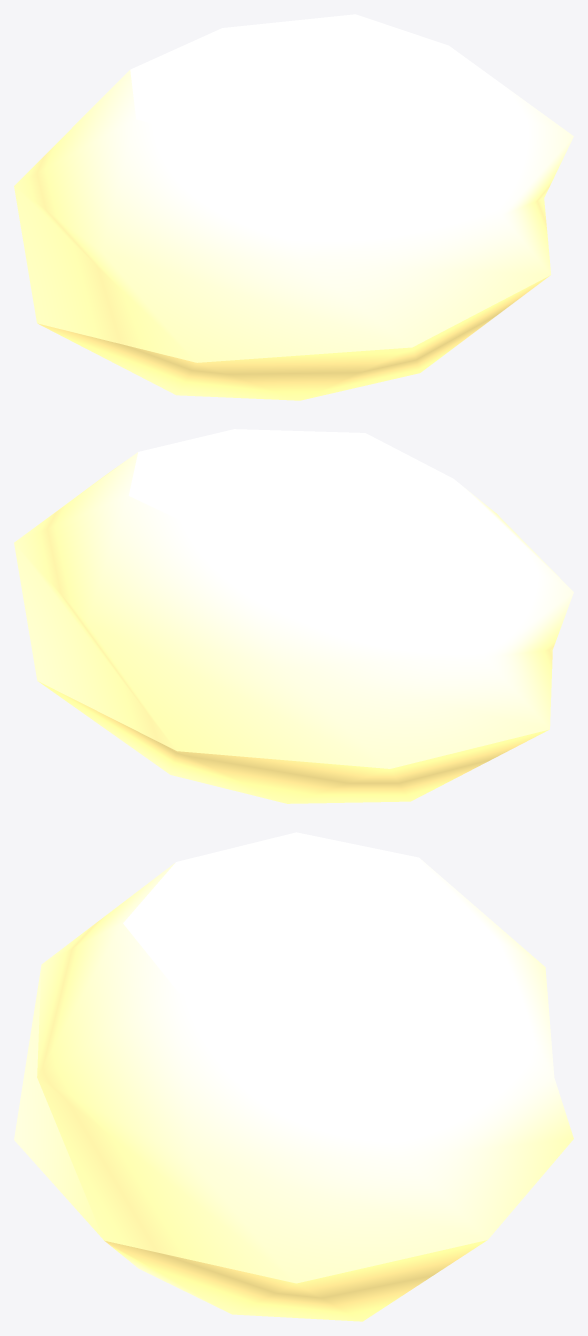
File: moonstone.glb
The picture shows the model from 3 angles, top to bottom: view 1: azimuth 30°, elevation 25°; view 2: azimuth 150°, elevation 25°; view 3: azimuth 270°, elevation 25°; orthographic projection. The views are drawn at different scales.
Visible parts, largest first — view 1: moonstone; view 2: moonstone; view 3: moonstone.
Boxes of the visible parts, box(x1,y1,x2,y2) form: moonstone: box(14, 14, 573, 400); moonstone: box(14, 429, 573, 803); moonstone: box(14, 832, 573, 1321).
Size of the model in its own units: 0.5 by 0.3 by 0.4.
